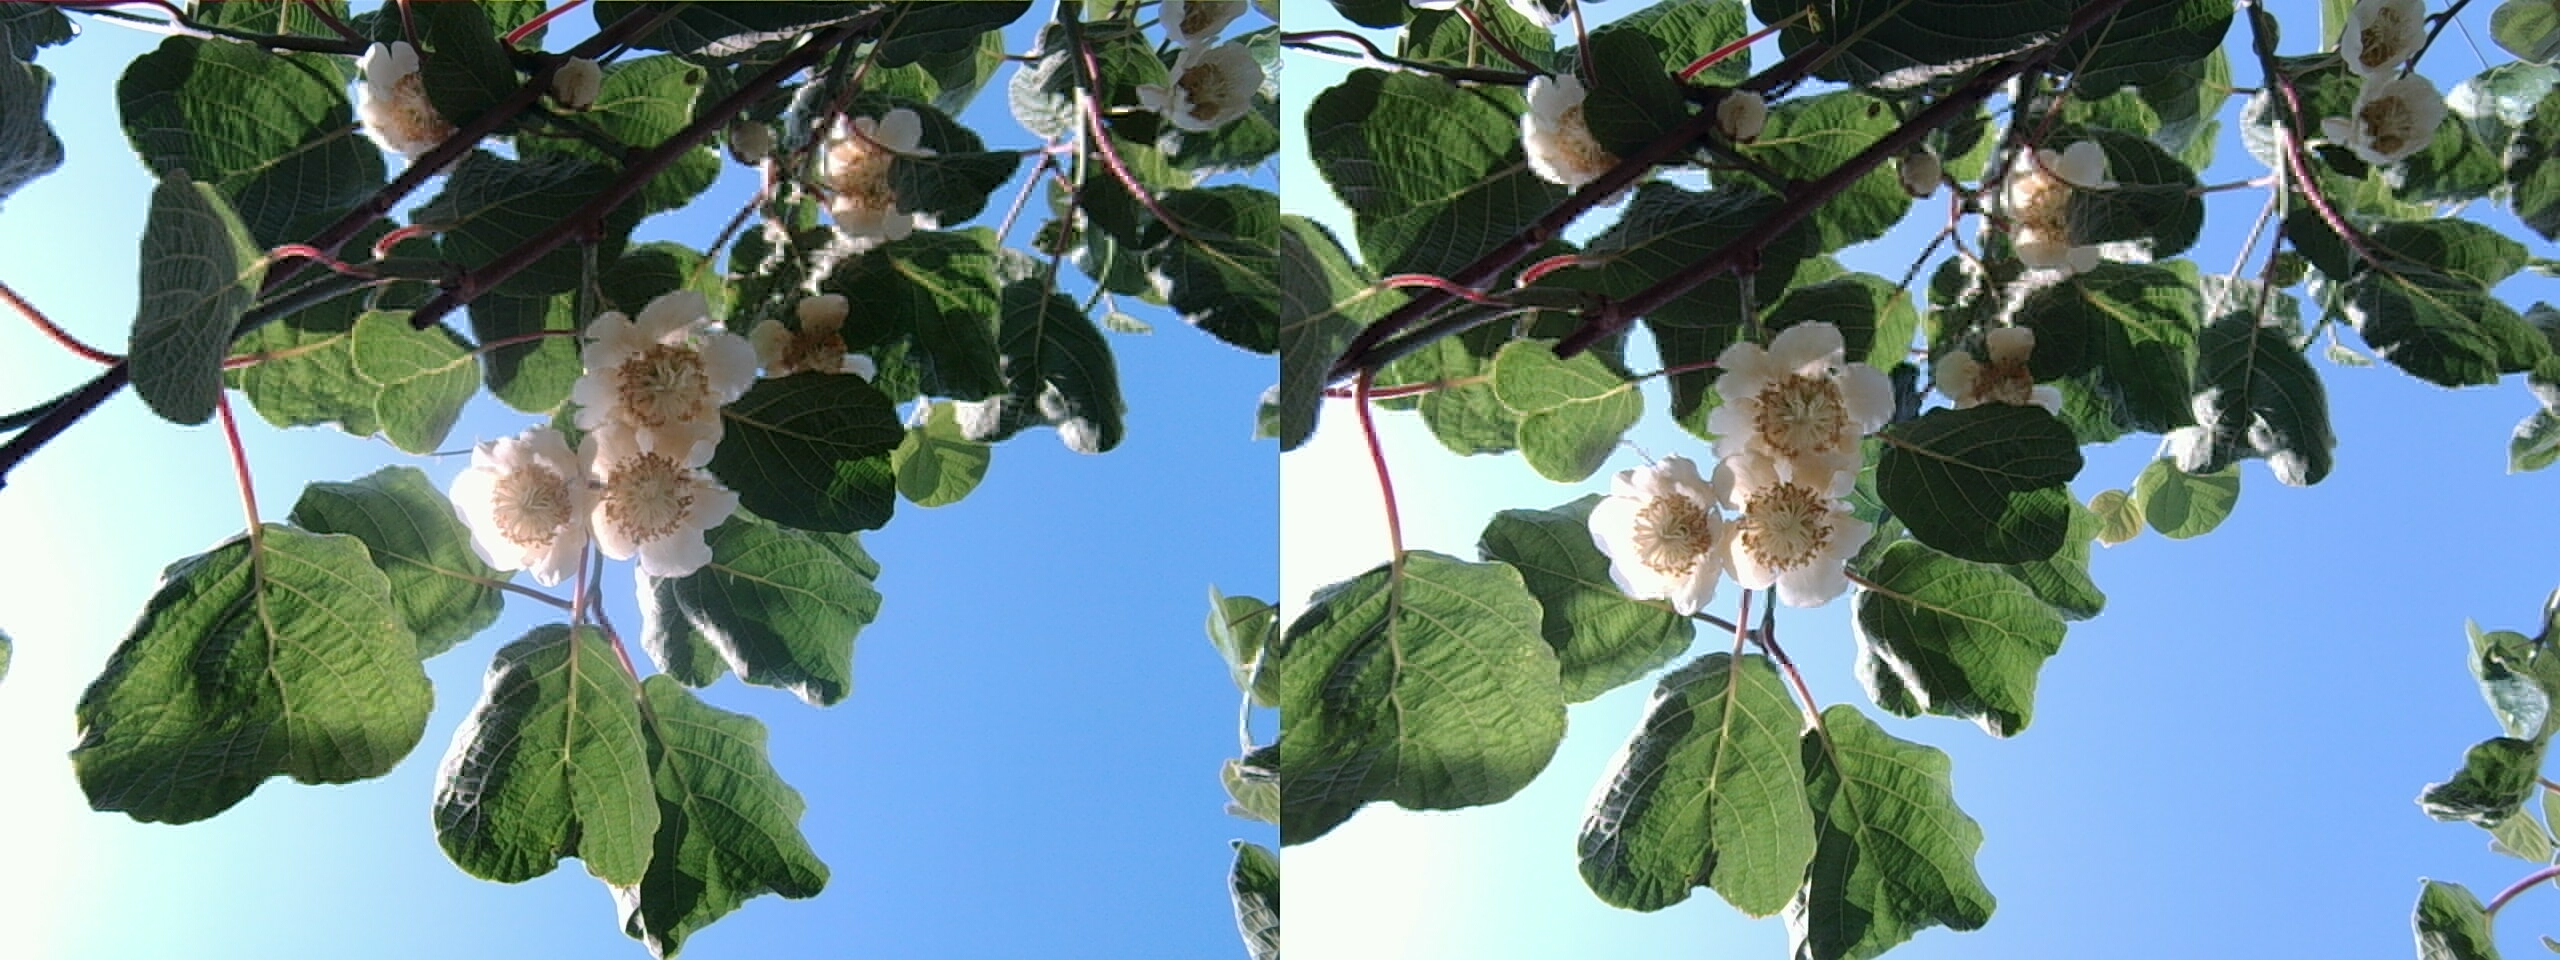flower: (1700, 315, 1896, 598), (567, 291, 758, 473), (570, 400, 749, 563), (1584, 447, 1736, 609), (447, 420, 593, 580)
